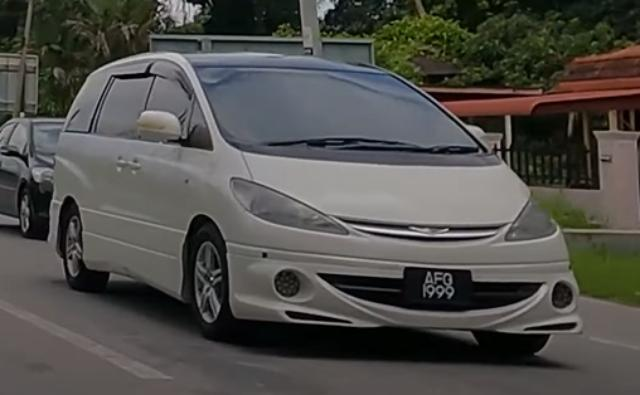License_Plate: (403, 267, 473, 307)
car: (47, 51, 584, 358)
